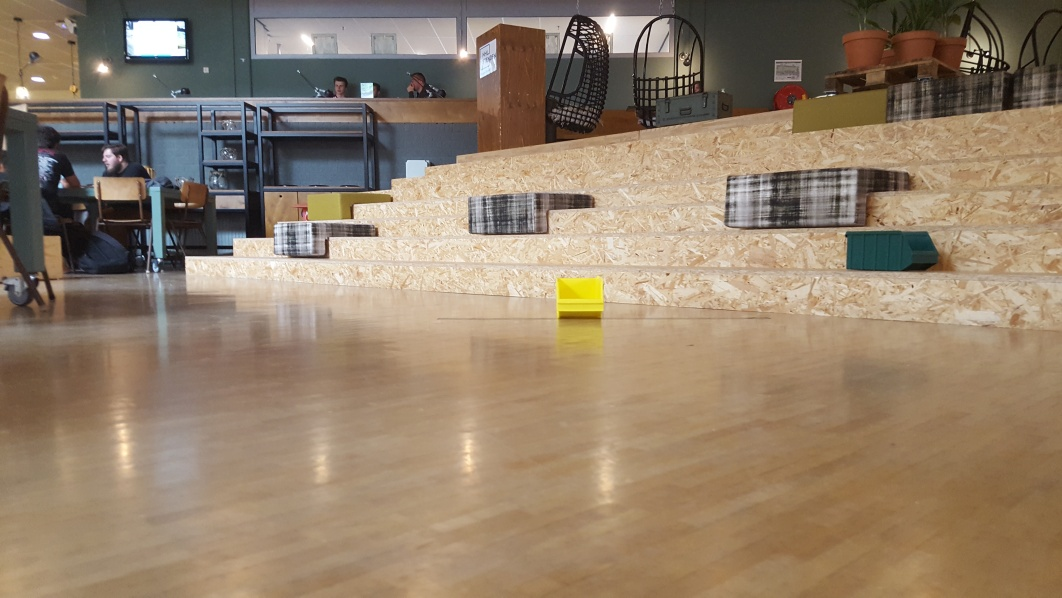tray: (833, 227, 940, 272), (552, 277, 607, 318)
